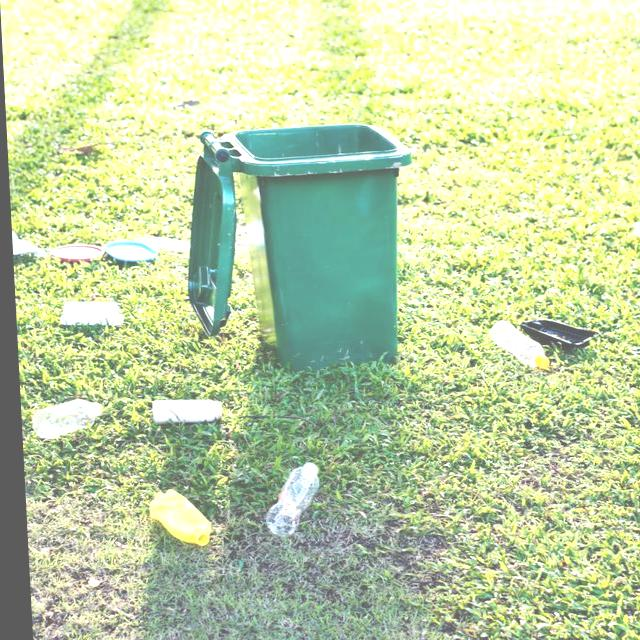Trash_Can_Empty: (221, 121, 420, 371)
